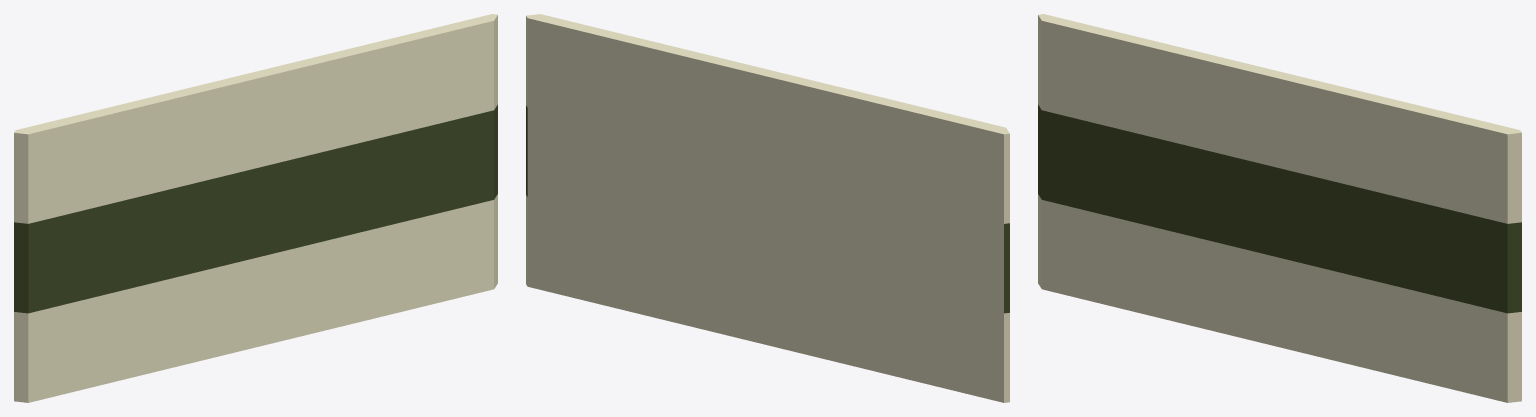
File: InteriorWall_45Plain_Capped_ExportPrep.gltf
3 renders of one model, left to right at view 1: azimuth 30°, elevation 25°; view 2: azimuth 150°, elevation 25°; view 3: azimuth 330°, elevation 25°, orthographic.
Visible parts, largest first — view 1: InteriorWall_45Plain_Capped; view 2: InteriorWall_45Plain_Capped; view 3: InteriorWall_45Plain_Capped.
Part boxes in pixels (x1,y1,x2,y2): InteriorWall_45Plain_Capped: [14, 14, 497, 402]; InteriorWall_45Plain_Capped: [526, 14, 1009, 402]; InteriorWall_45Plain_Capped: [1038, 14, 1521, 402].
Size of the model in its own units: 5.66 by 3 by 0.15.
